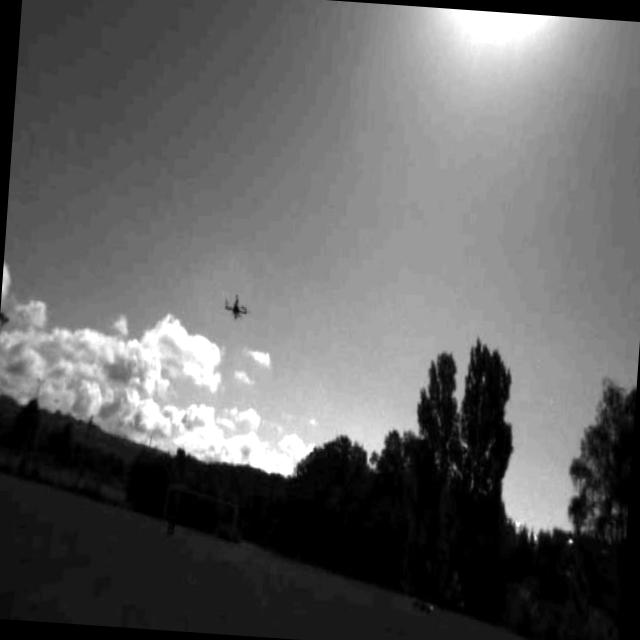drone: (218, 288, 252, 322)
